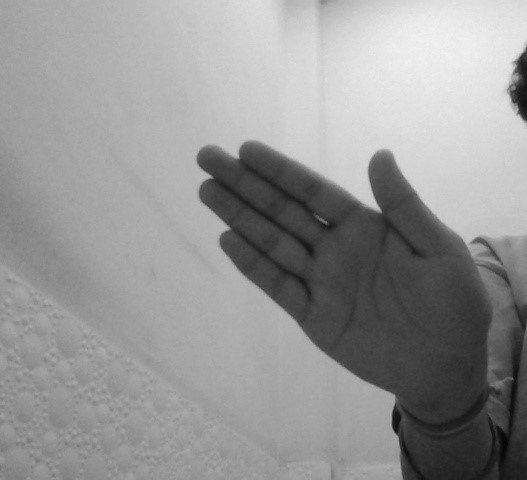Hello: (191, 138, 498, 398)
